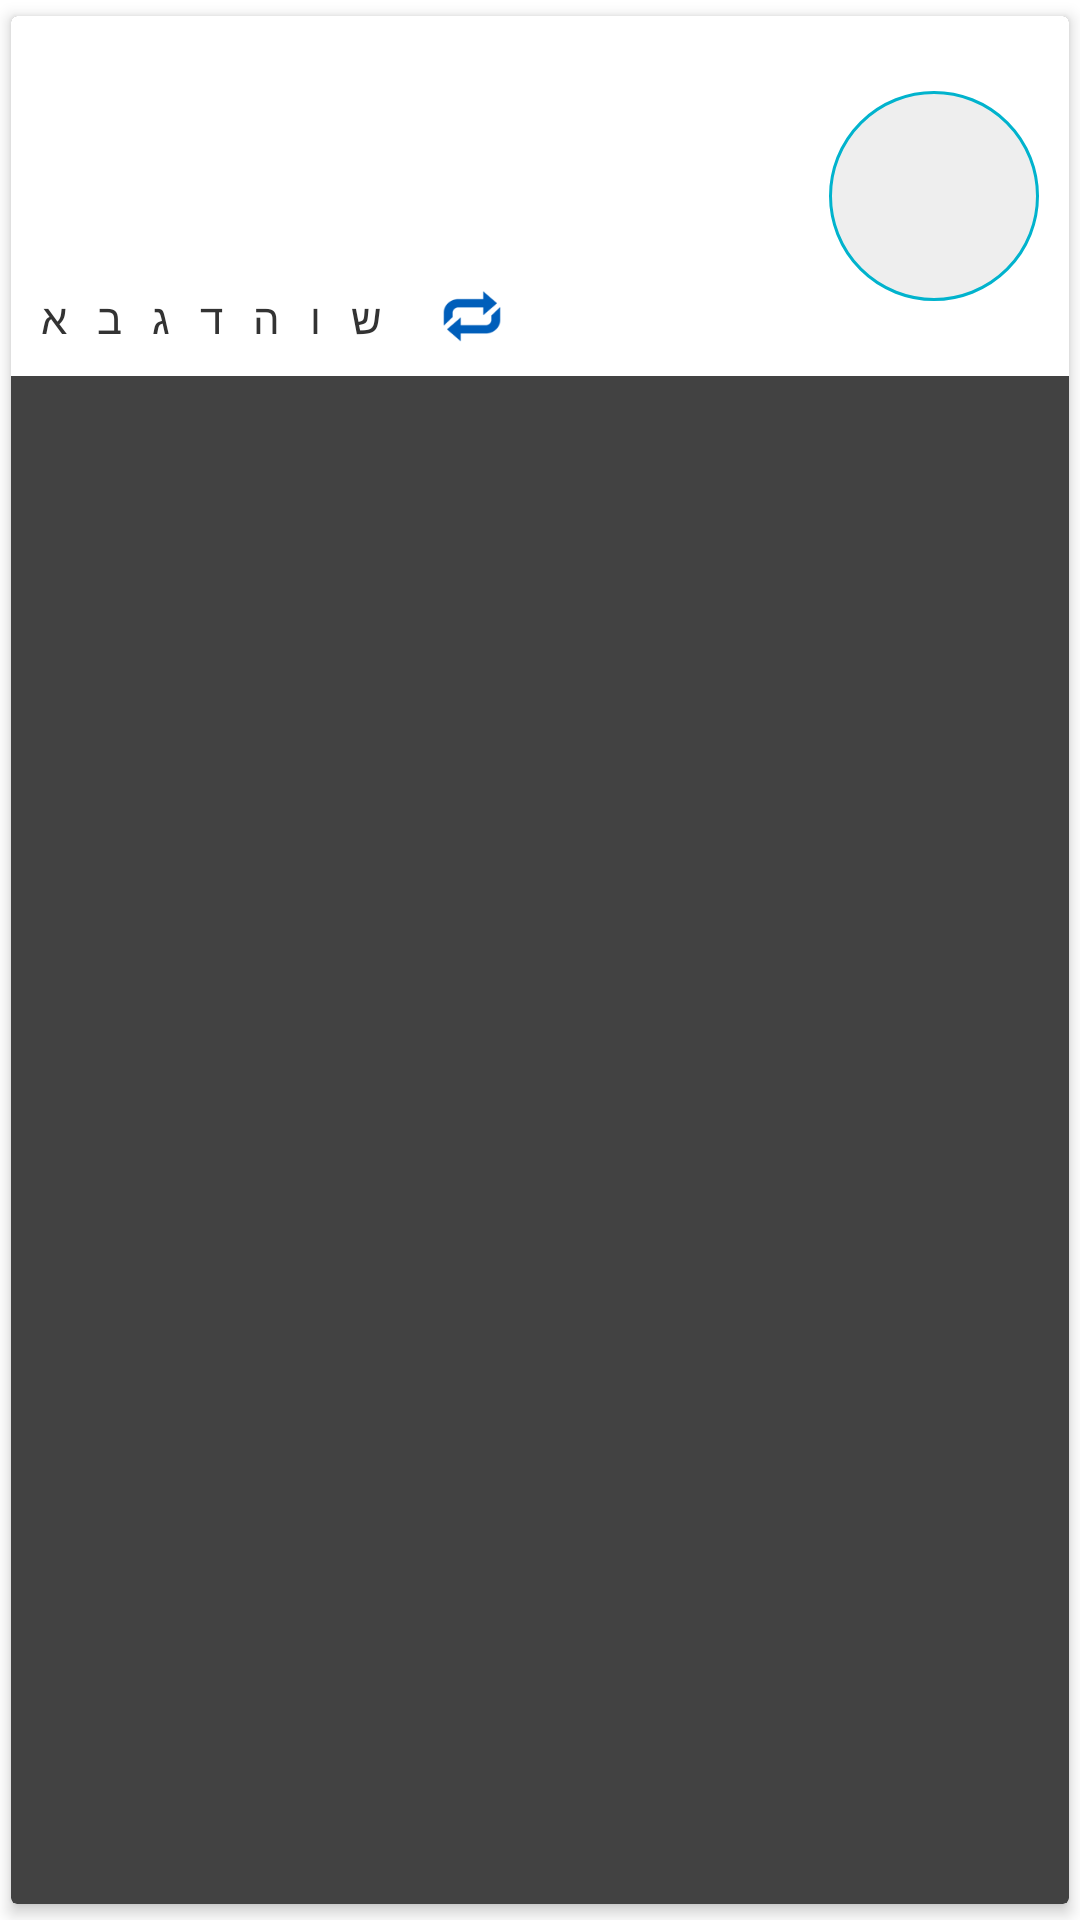

Screen size 1080w x 1920h. Icon name, then its box in pixels as (x1, y1, x2, y2):
repeats: (443, 291, 501, 341)
